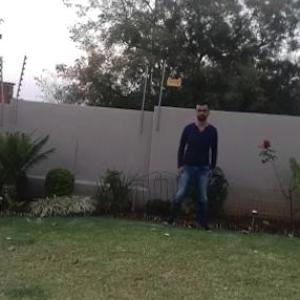follow: (169, 97, 219, 236)
